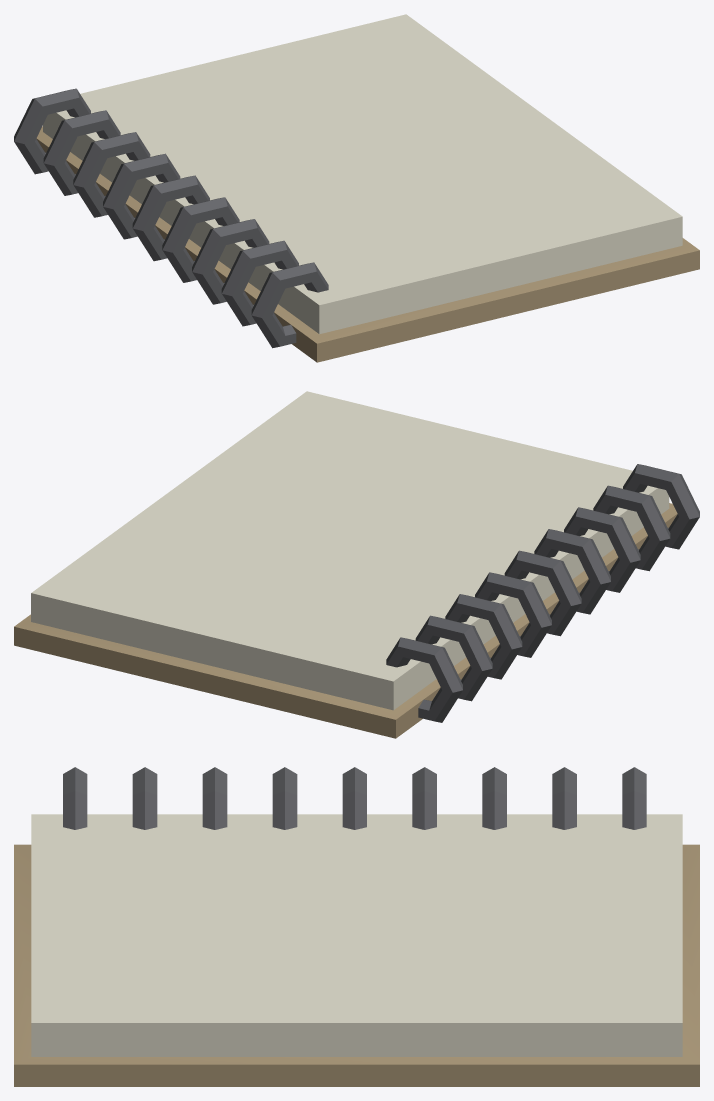
File: notebook-open.fbx
3 renders of one model, top to bottom at view 1: azimuth 30°, elevation 25°; view 2: azimuth 150°, elevation 25°; view 3: azimuth 270°, elevation 25°, orthographic. The views are drawn at different scales.
Parts seen in each view (by area): view 1: open_notebook; view 2: open_notebook; view 3: open_notebook.
Part boxes in pixels (box(x1,y1,x2,y2)): open_notebook: box(14, 14, 699, 362); open_notebook: box(14, 391, 699, 738); open_notebook: box(14, 767, 699, 1086).
Size of the model in its own units: 28.75 by 4.93 by 34.34.
